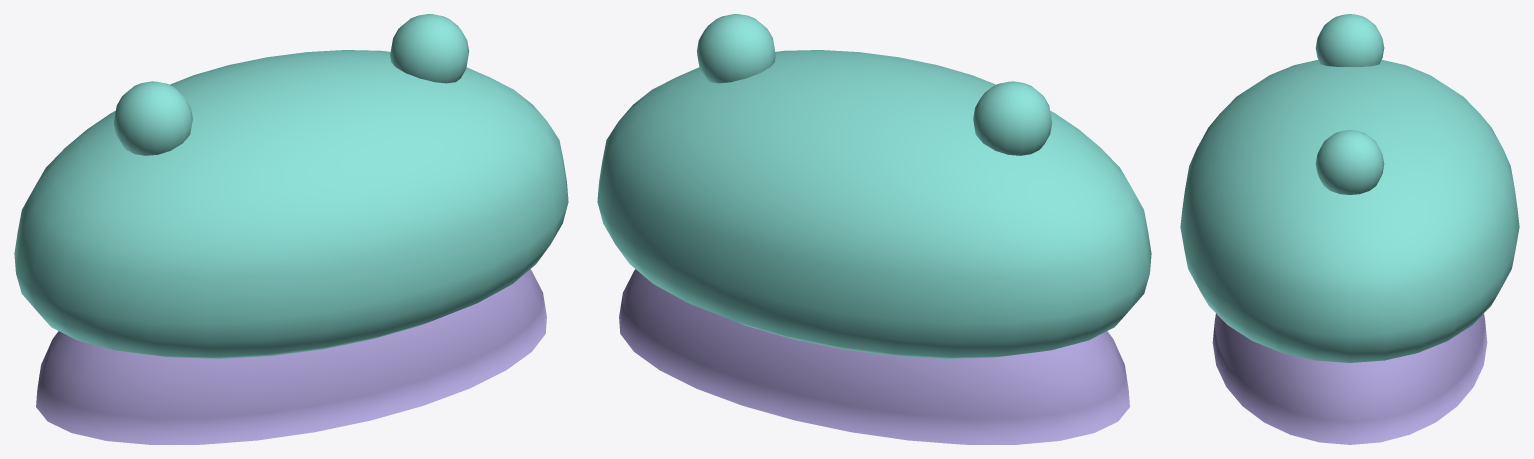
File: head_mound.glb
3 renders of one model, left to right at view 1: azimuth 30°, elevation 25°; view 2: azimuth 150°, elevation 25°; view 3: azimuth 270°, elevation 25°, orthographic. The views are drawn at different scales.
Visible parts, largest first — view 1: MoundHead, MoundShoulders, MoundNubLeft, MoundNubRight; view 2: MoundHead, MoundShoulders, MoundNubLeft, MoundNubRight; view 3: MoundHead, MoundShoulders, MoundNubRight, MoundNubLeft.
Boxes of the visible parts, x1=… form: MoundHead: x1=14, y1=50, x2=568, y2=358; MoundShoulders: x1=36, y1=269, x2=546, y2=444; MoundNubLeft: x1=114, y1=81, x2=192, y2=155; MoundNubRight: x1=390, y1=14, x2=469, y2=83; MoundHead: x1=597, y1=50, x2=1151, y2=358; MoundShoulders: x1=619, y1=269, x2=1129, y2=444; MoundNubLeft: x1=973, y1=81, x2=1051, y2=155; MoundNubRight: x1=696, y1=14, x2=775, y2=83; MoundHead: x1=1180, y1=60, x2=1519, y2=362; MoundShoulders: x1=1212, y1=313, x2=1487, y2=444; MoundNubRight: x1=1315, y1=130, x2=1384, y2=194; MoundNubLeft: x1=1315, y1=14, x2=1384, y2=66.
Size of the model in its own units: 0.64 by 0.3656 by 0.42.
